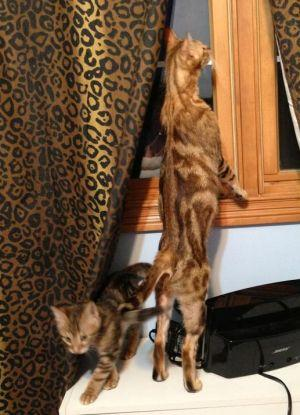bengal: (50, 299, 111, 359)
